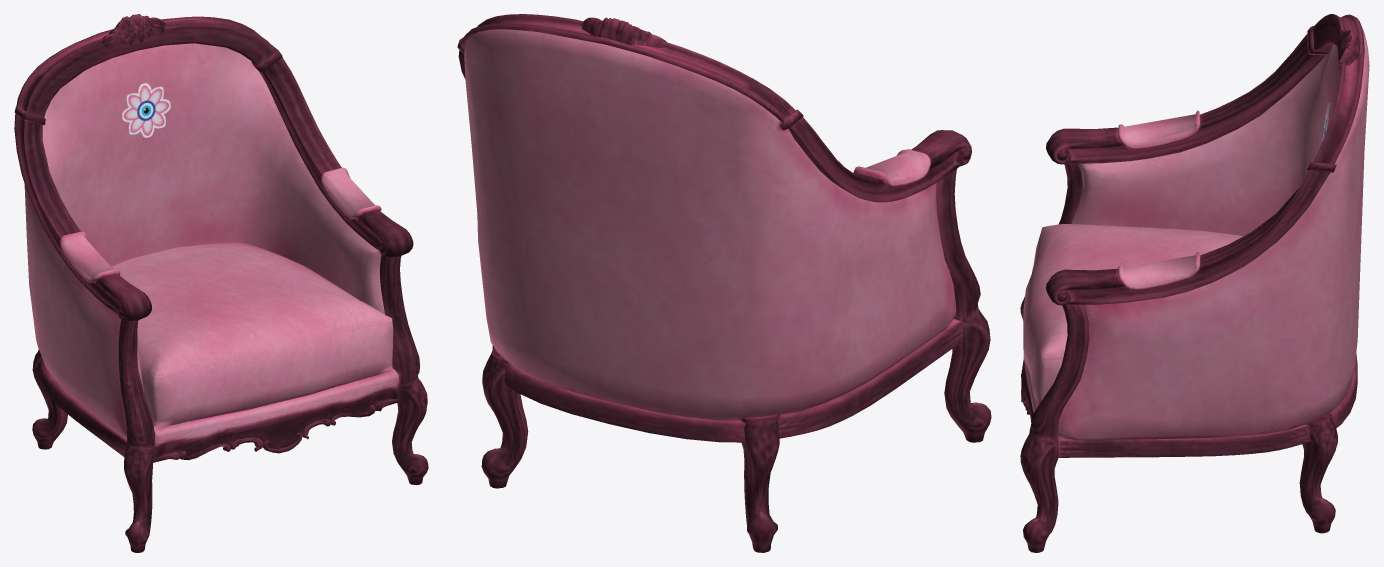
File: nyb_bigbusiness_armchair.glb
3 renders of one model, left to right at view 1: azimuth 30°, elevation 25°; view 2: azimuth 150°, elevation 25°; view 3: azimuth 270°, elevation 25°, orthographic. The views are drawn at different scales.
Visible parts, largest first — view 1: ArmChair_01, stk_eyeflower_die.png; view 2: ArmChair_01; view 3: ArmChair_01.
Part boxes in pixels (box(x1,y1,x2,y2)): ArmChair_01: box(14, 14, 428, 552); stk_eyeflower_die.png: box(122, 83, 170, 137); ArmChair_01: box(457, 14, 991, 552); ArmChair_01: box(1020, 14, 1369, 552).
Bounding box in the file's own units: 0.8484 × 1.07 × 0.7658.
Materials: 2 (2 with a texture image).
